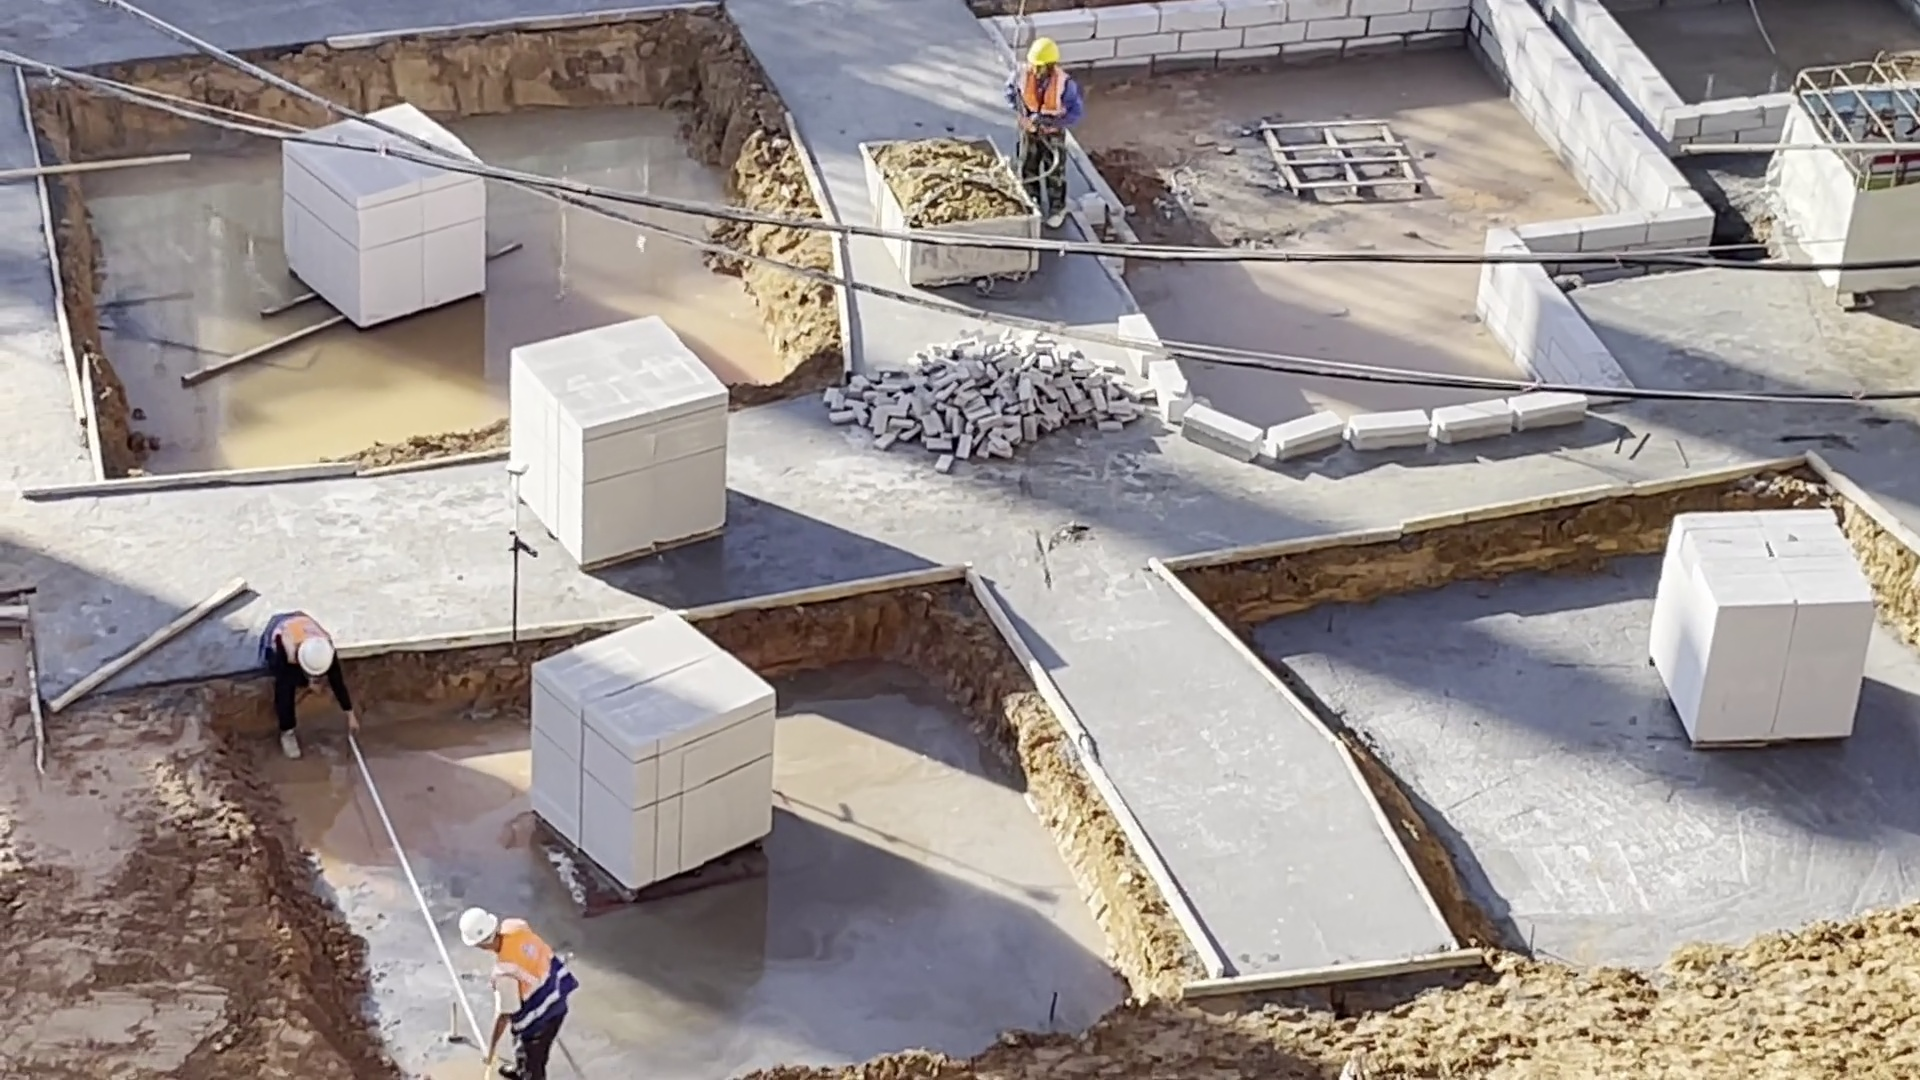brick: (527, 609, 783, 893), (1642, 500, 1878, 758), (508, 309, 736, 571), (275, 176, 494, 334)
helmet: (454, 901, 503, 949), (293, 628, 336, 675), (1023, 40, 1063, 67)
hopper: (856, 131, 1018, 235)
person: (458, 897, 585, 1080), (252, 605, 358, 765), (997, 38, 1075, 234)
vest: (497, 922, 581, 1042), (1016, 66, 1066, 132)
